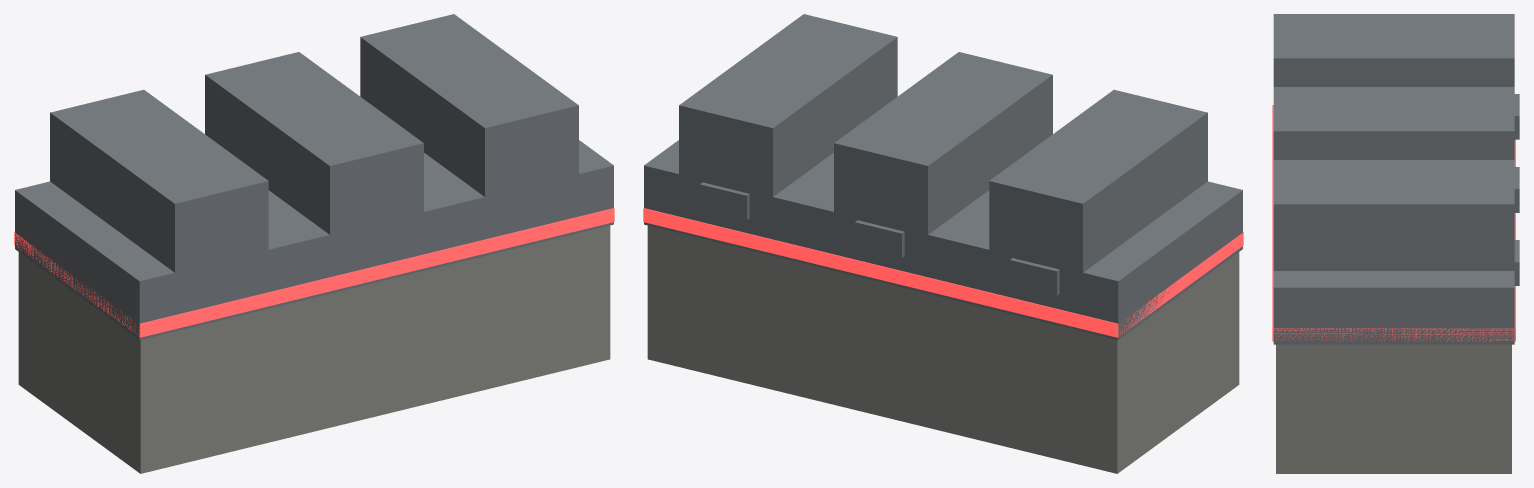
File: crimson_wall_segment.glb
3 renders of one model, left to right at view 1: azimuth 30°, elevation 25°; view 2: azimuth 150°, elevation 25°; view 3: azimuth 270°, elevation 25°, orthographic. The views are drawn at different scales.
Visible parts, largest first — view 1: CrimsonWallSegment; view 2: CrimsonWallSegment; view 3: CrimsonWallSegment.
Boxes of the visible parts, x1,y1,x2,y2 form: CrimsonWallSegment: [14, 14, 614, 473]; CrimsonWallSegment: [643, 14, 1243, 473]; CrimsonWallSegment: [1272, 14, 1519, 473].
Bounding box in the file's own units: 2.02 × 1.07 × 0.945.
